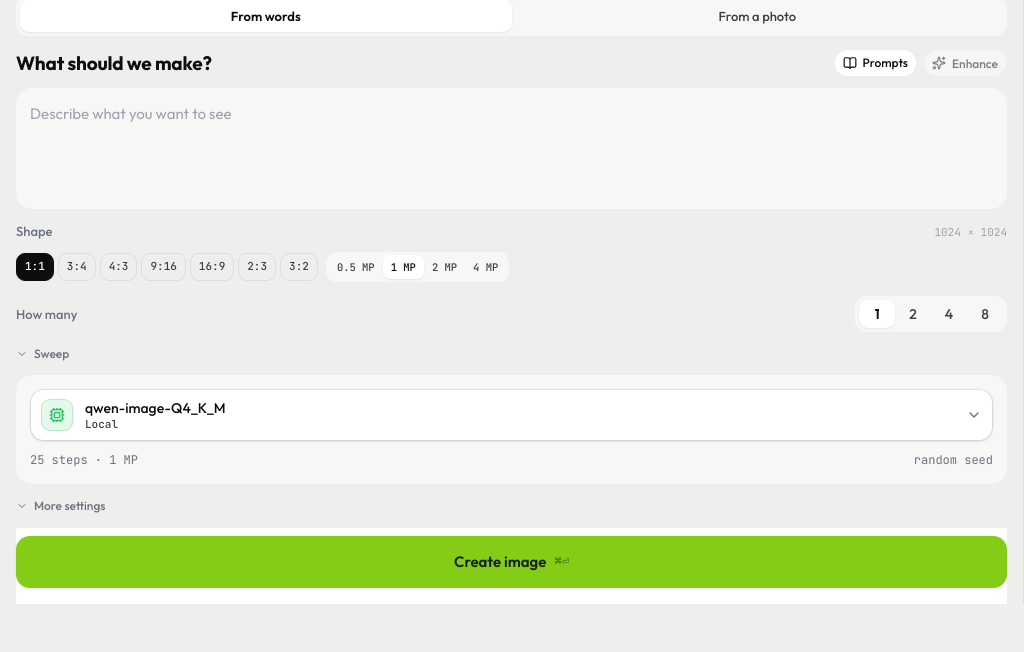
it: Composer › picking another model resets the LoRA to the family default
Click the button "More settings".
click(61, 506)  # box [16,496,106,516]
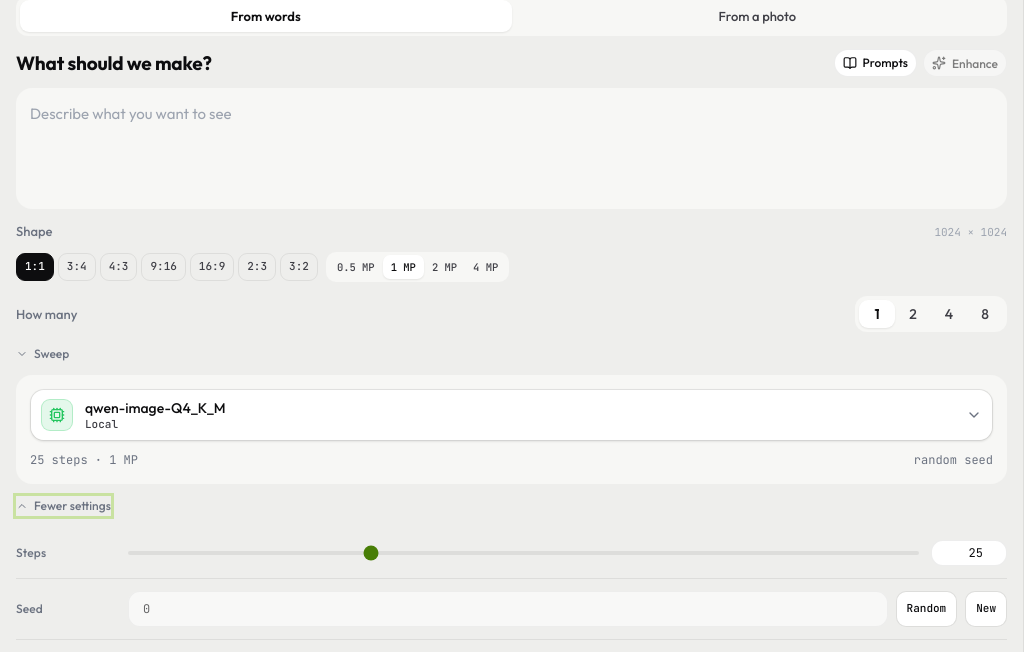
Expected: the text "qwen-image-Q4_K_M" is shown, [85,399,226,417]
Click the dropdown named "Choose a model".
click(57, 415)  # box [30,389,993,441]
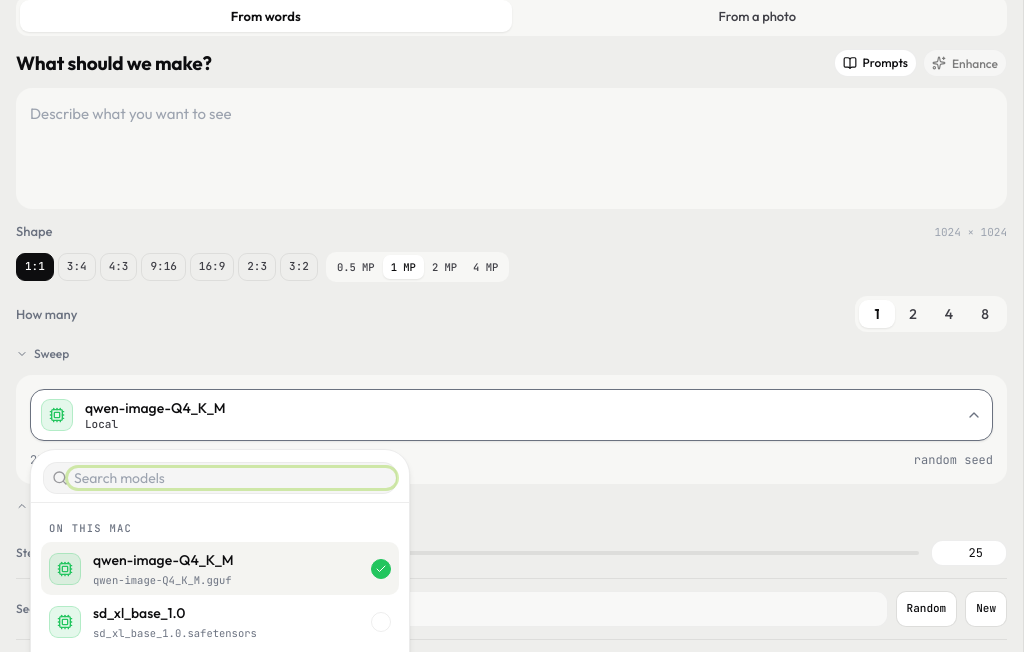
Click the text "sd_xl_base_1.0".
click(139, 613)  # box [93,603,185,623]
(page scrolled)
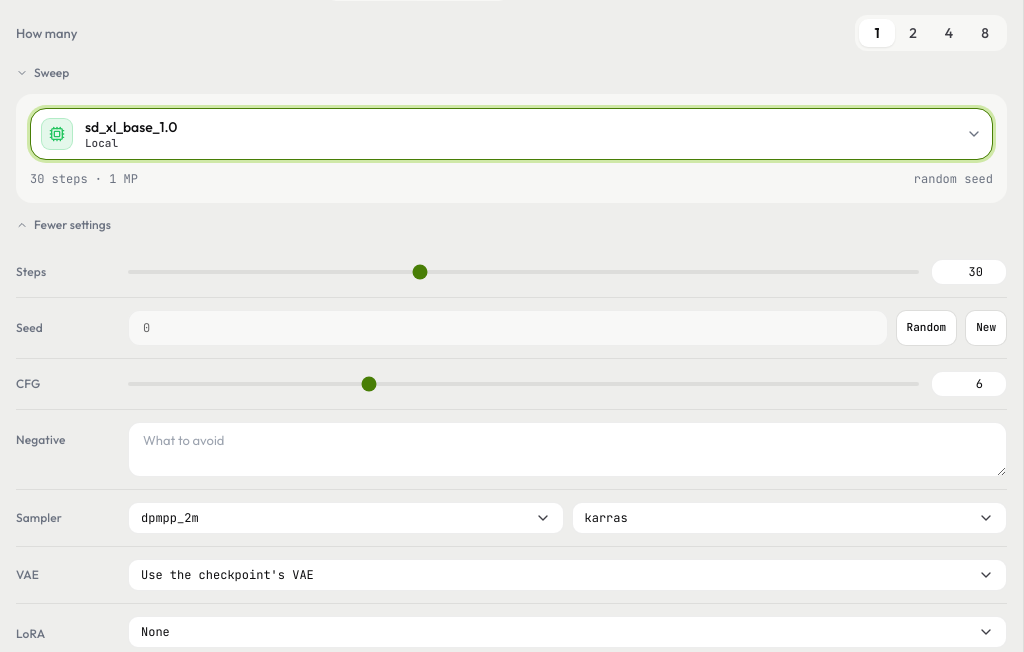
Now the text "sd_xl_base_1.0" is shown, box [85,118,177,136]
Now the text "None" is shown, box [141,624,170,640]
